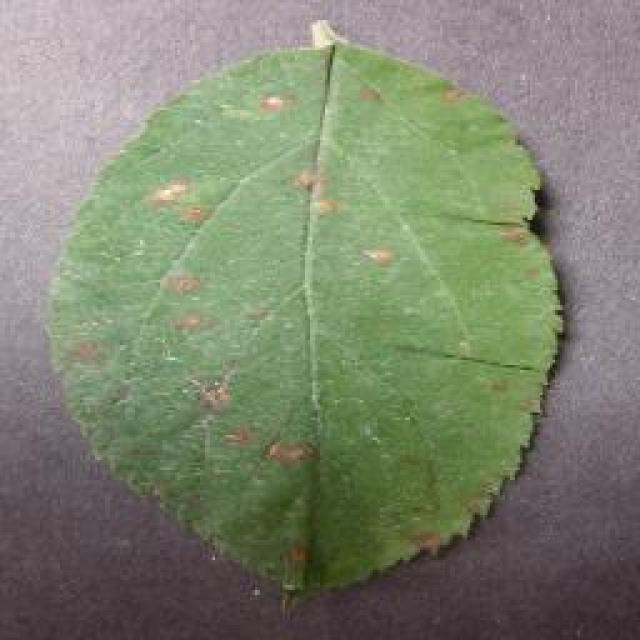apple cedar apple rust: (42, 18, 568, 612)
